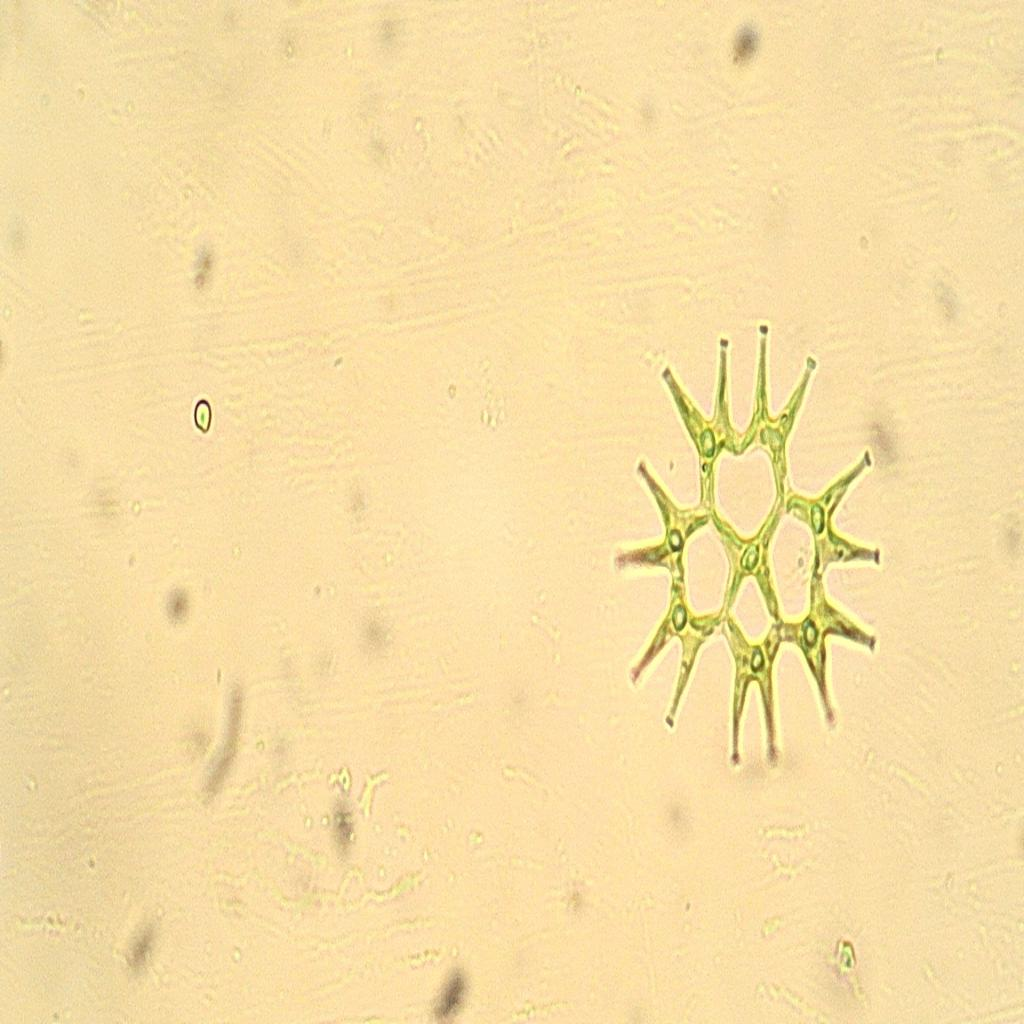Pediastrum_CTH: (608, 324, 894, 800)
